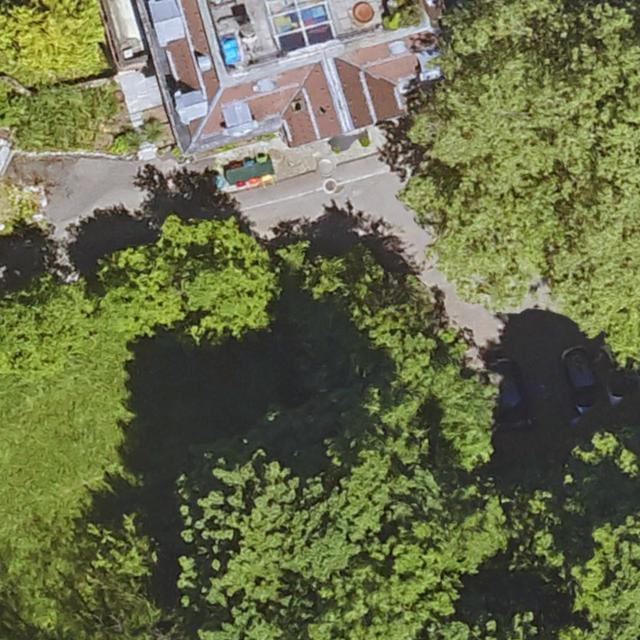tree: (399, 0, 640, 363), (193, 401, 507, 640), (282, 244, 498, 437), (534, 425, 640, 640), (163, 215, 274, 336), (87, 519, 176, 640), (0, 0, 111, 85), (0, 275, 92, 371), (12, 84, 128, 152), (96, 250, 170, 333)
